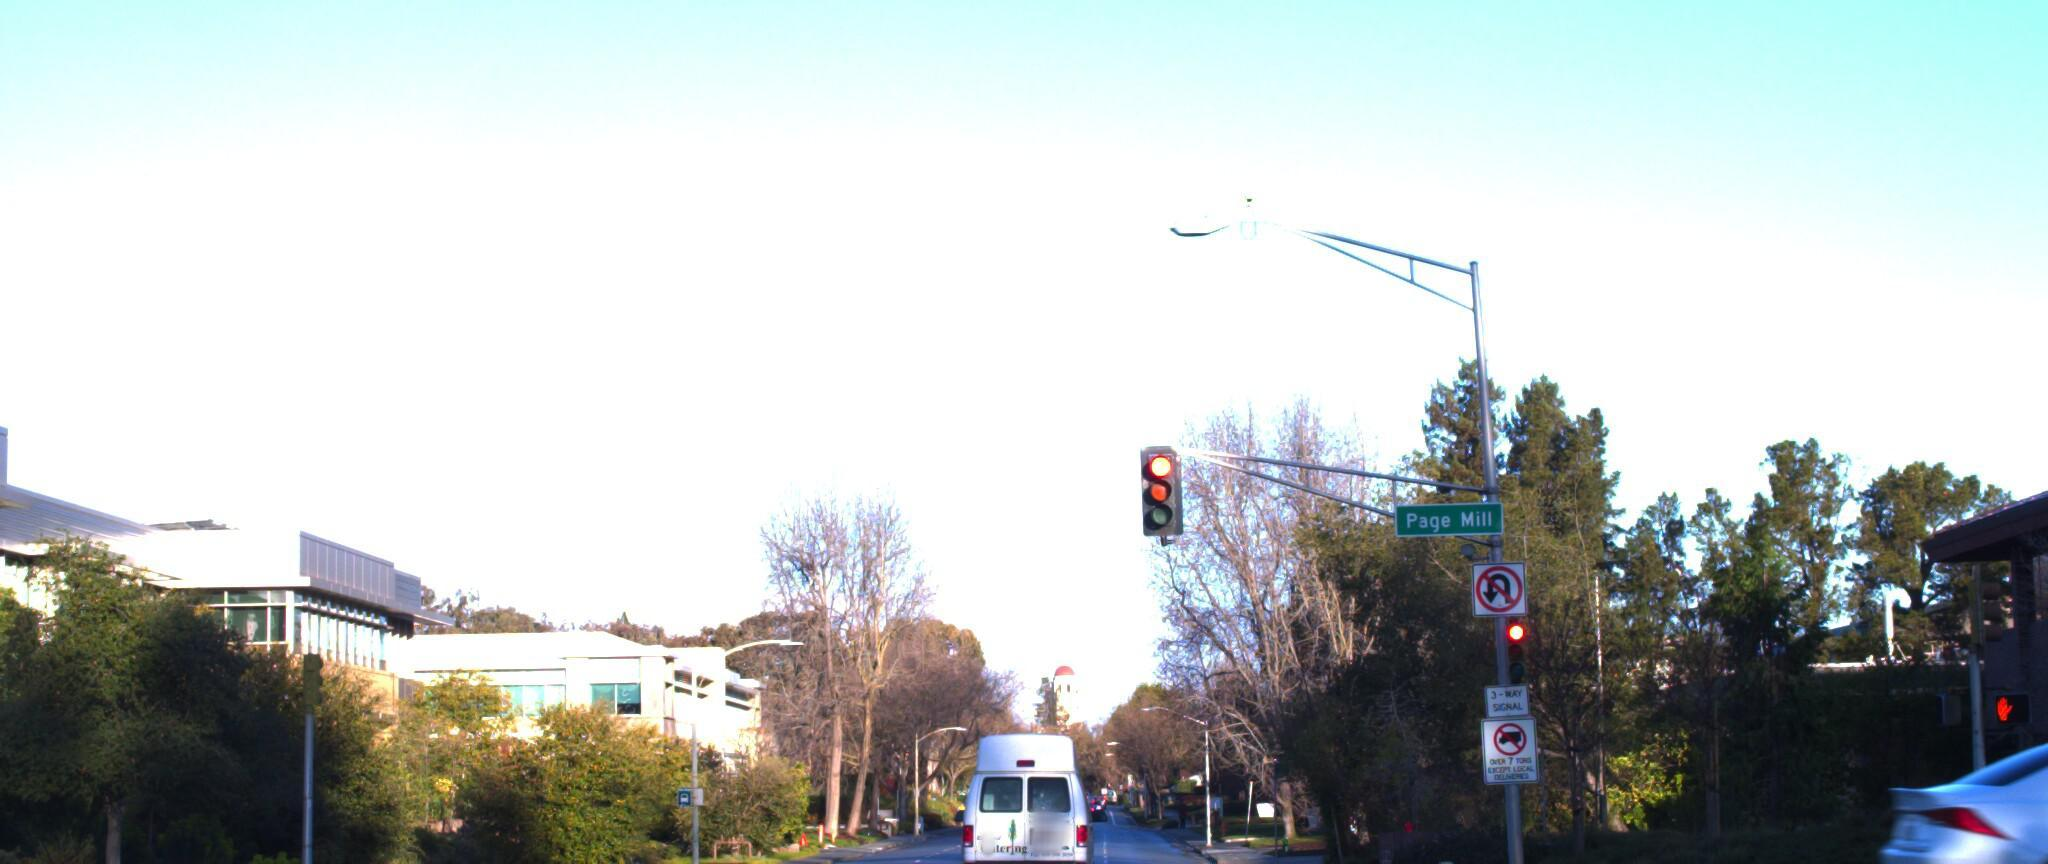car: (1832, 714, 2048, 864), (920, 714, 1093, 864)
